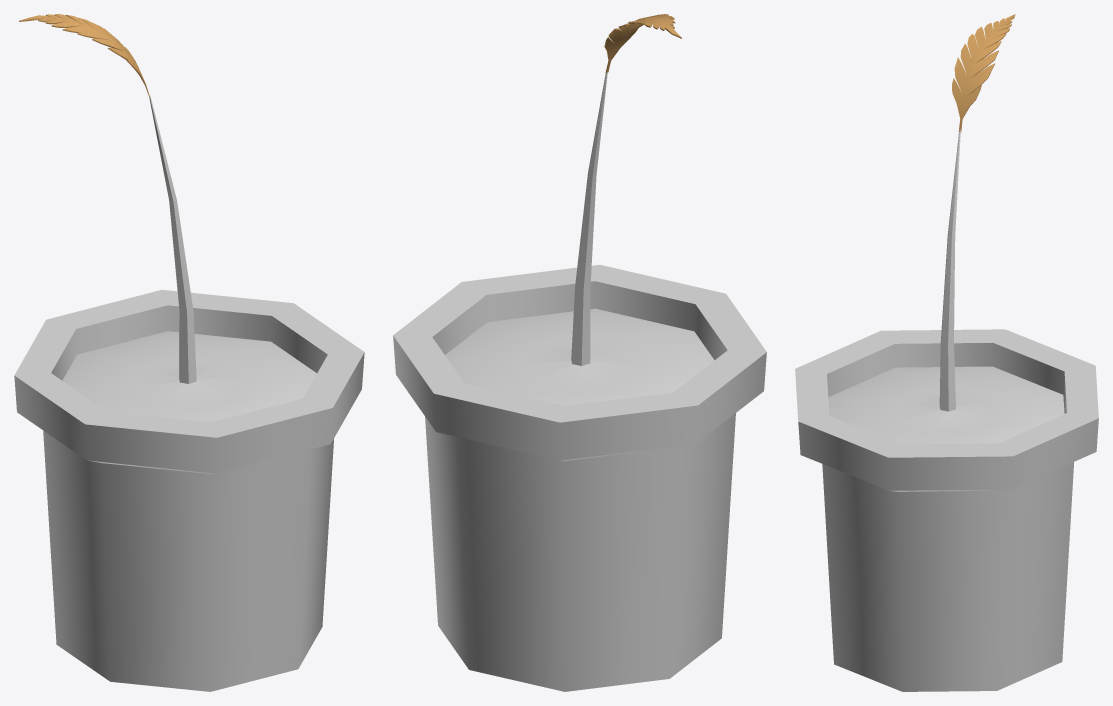
Rendered from Weed_Pot.fbx.
3 renders of one model, left to right at view 1: azimuth 30°, elevation 25°; view 2: azimuth 150°, elevation 25°; view 3: azimuth 270°, elevation 25°, orthographic. The views are drawn at different scales.
Parts seen in each view (by area): view 1: Weed_Pot, Weed_Leave; view 2: Weed_Pot, Weed_Leave; view 3: Weed_Pot, Weed_Leave.
Boxes of the visible parts, bbox=[...] form: Weed_Pot: bbox=[14, 95, 364, 691]; Weed_Leave: bbox=[19, 14, 150, 97]; Weed_Pot: bbox=[393, 72, 766, 691]; Weed_Leave: bbox=[604, 14, 681, 73]; Weed_Pot: bbox=[795, 130, 1098, 691]; Weed_Leave: bbox=[952, 14, 1015, 132].
Size of the model in its own units: 31.84 by 66.14 by 31.84.
